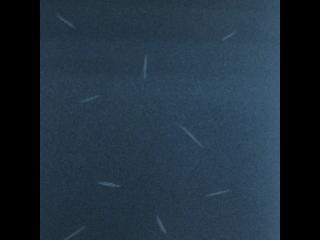scratch: (178, 124, 205, 149), (52, 10, 79, 32), (151, 212, 171, 237), (217, 26, 241, 46), (94, 178, 126, 192), (202, 186, 232, 200), (76, 92, 103, 106), (62, 225, 87, 240), (139, 52, 151, 83)
